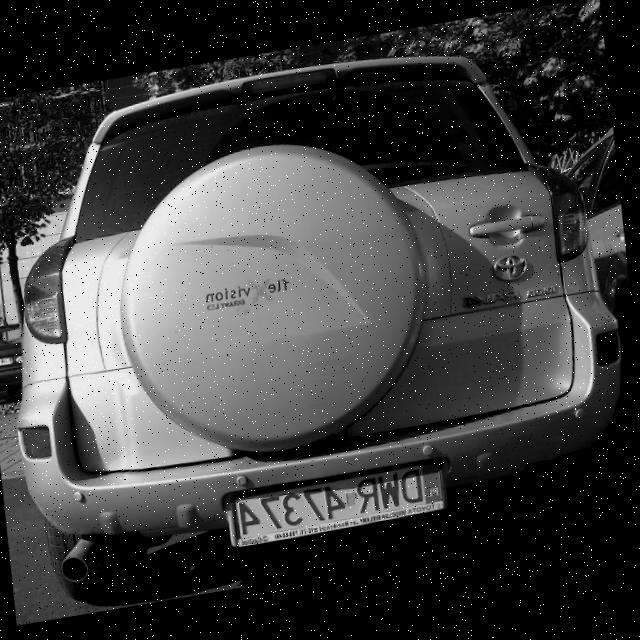license-plates: (228, 463, 444, 547)
